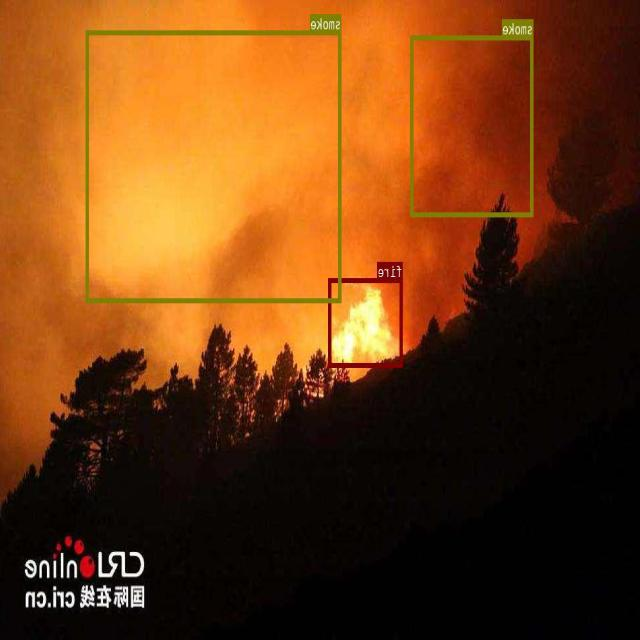fire: (329, 277, 404, 366)
smoke: (86, 30, 342, 302), (411, 35, 534, 216)
